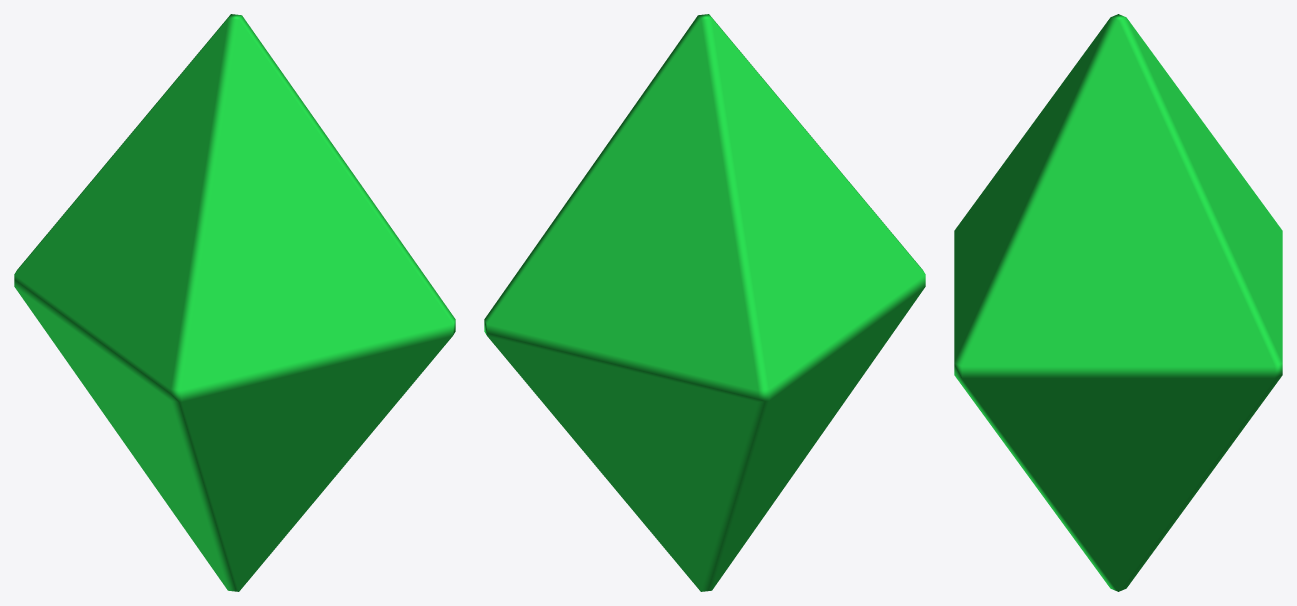
File: crystal2-2notex.fbx
3 renders of one model, left to right at view 1: azimuth 30°, elevation 25°; view 2: azimuth 150°, elevation 25°; view 3: azimuth 270°, elevation 25°, orthographic.
Visible parts, largest first — view 1: crystal2-2notex; view 2: crystal2-2notex; view 3: crystal2-2notex.
Boxes of the visible parts, x1,y1,x2,y2 form: crystal2-2notex: (14,14,455,591); crystal2-2notex: (484,14,925,591); crystal2-2notex: (954,14,1282,591).
Bounding box in the file's own units: 0.2223 × 0.4262 × 0.2223.
